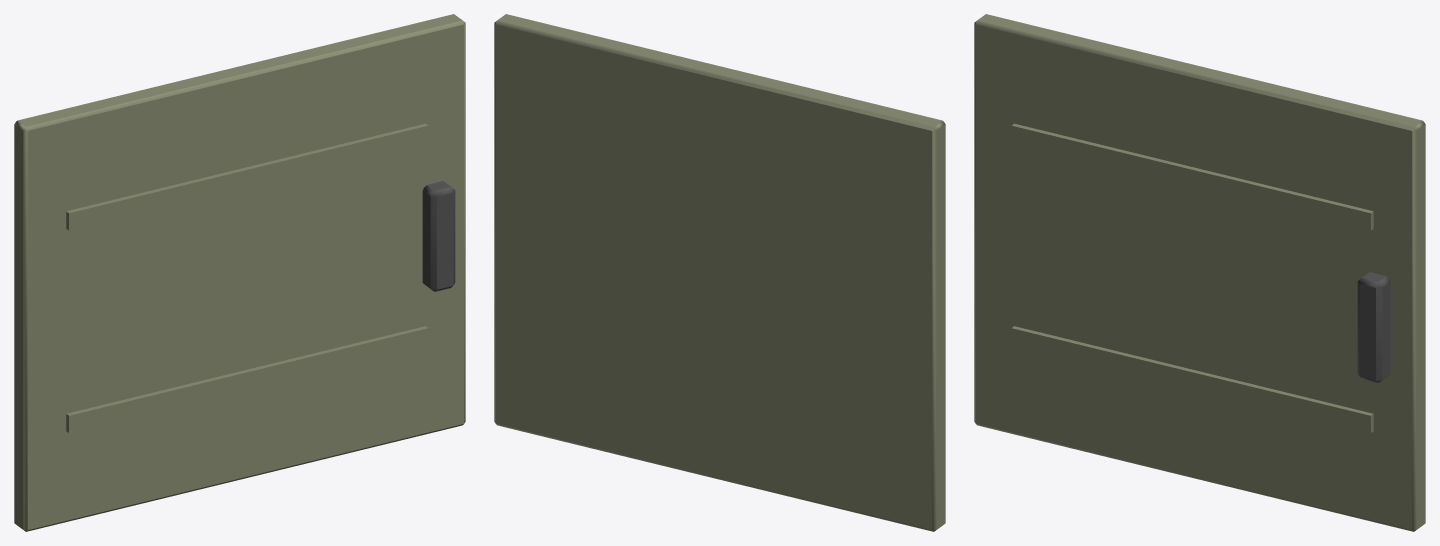
File: cab_hatch_panel.glb
The picture shows the model from 3 angles, left to right: view 1: azimuth 30°, elevation 25°; view 2: azimuth 150°, elevation 25°; view 3: azimuth 330°, elevation 25°; orthographic projection.
Parts seen in each view (by area): view 1: cab_hatch_panel; view 2: cab_hatch_panel; view 3: cab_hatch_panel.
Boxes of the visible parts, left/top/right/bottom form: cab_hatch_panel: left=14, top=14, right=465, bottom=531; cab_hatch_panel: left=494, top=14, right=945, bottom=531; cab_hatch_panel: left=974, top=14, right=1425, bottom=531.
Bounding box in the file's own units: 0.32 × 0.28 × 0.031.
